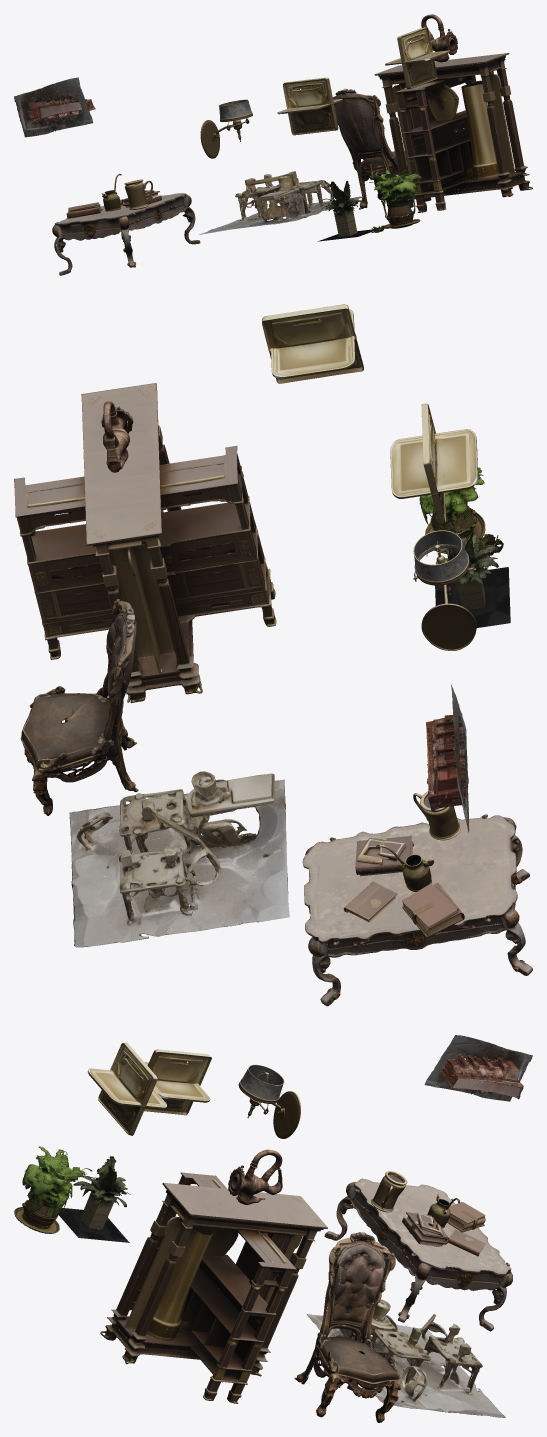
The model's file is gallery-sage-91310627-web.glb.
3 renders of one model, top to bottom at view 1: azimuth 30°, elevation 25°; view 2: azimuth 150°, elevation 25°; view 3: azimuth 270°, elevation 25°, orthographic. The views are drawn at different scales.
Visible parts, largest first — view 1: instance_15, instance_4, instance_5, instance_8, instance_3, instance_10, instance_6, instance_11, instance_14, instance_7, instance_12, instance_9 (+2 smaller); view 2: instance_15, instance_8, instance_5, instance_4, instance_11, instance_10, instance_14, instance_7, instance_3, instance_6, instance_1, instance_0 (+4 smaller); view 3: instance_15, instance_4, instance_5, instance_8, instance_3, instance_11, instance_6, instance_10, instance_7, instance_14, instance_12, instance_0 (+4 smaller).
Boxes of the visible parts, x1,y1,x2,y2 form: instance_15: (374,53,532,212); instance_4: (332,88,408,209); instance_5: (52,193,200,275); instance_8: (199,171,362,234); instance_3: (14,77,95,137); instance_10: (277,77,342,135); instance_6: (369,169,422,232); instance_11: (385,27,450,89); instance_14: (200,99,252,158); instance_7: (317,181,373,241); instance_12: (421,14,457,62); instance_9: (124,179,152,209); instance_15: (14,383,276,703); instance_8: (69,771,289,947); instance_5: (302,814,532,1006); instance_4: (20,599,138,815); instance_11: (262,304,363,383); instance_10: (390,403,477,525); instance_14: (413,530,476,650); instance_7: (435,528,510,627); instance_3: (426,684,469,832); instance_6: (419,467,503,555); instance_1: (402,883,464,937); instance_0: (355,836,413,876); instance_15: (100,1172,327,1403); instance_4: (294,1232,400,1422); instance_5: (324,1178,512,1331); instance_8: (306,1299,505,1417); instance_3: (424,1035,532,1101); instance_11: (87,1042,166,1135); instance_6: (14,1146,92,1233); instance_10: (144,1049,211,1115); instance_7: (59,1156,130,1242); instance_14: (238,1064,300,1138); instance_12: (228,1149,282,1204); instance_0: (402,1212,449,1246).
Size of the model in its own units: 2.22 by 1.63 by 2.07.
Materials: 16 (16 with a texture image).
